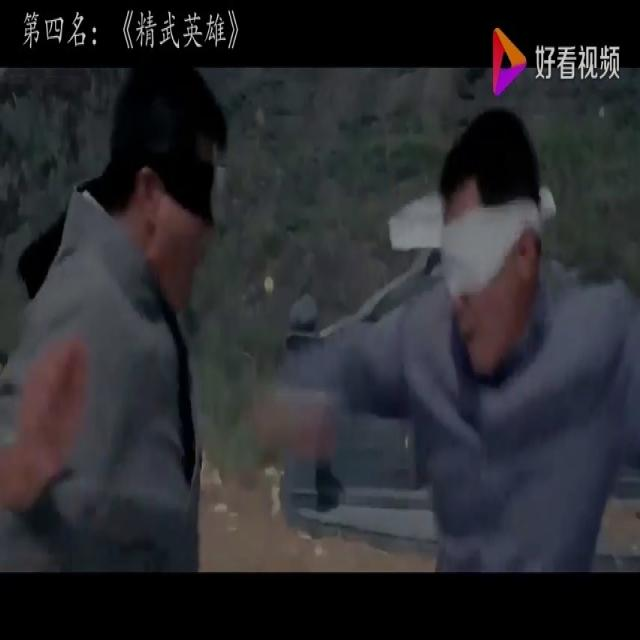fight: (0, 74, 639, 574)
